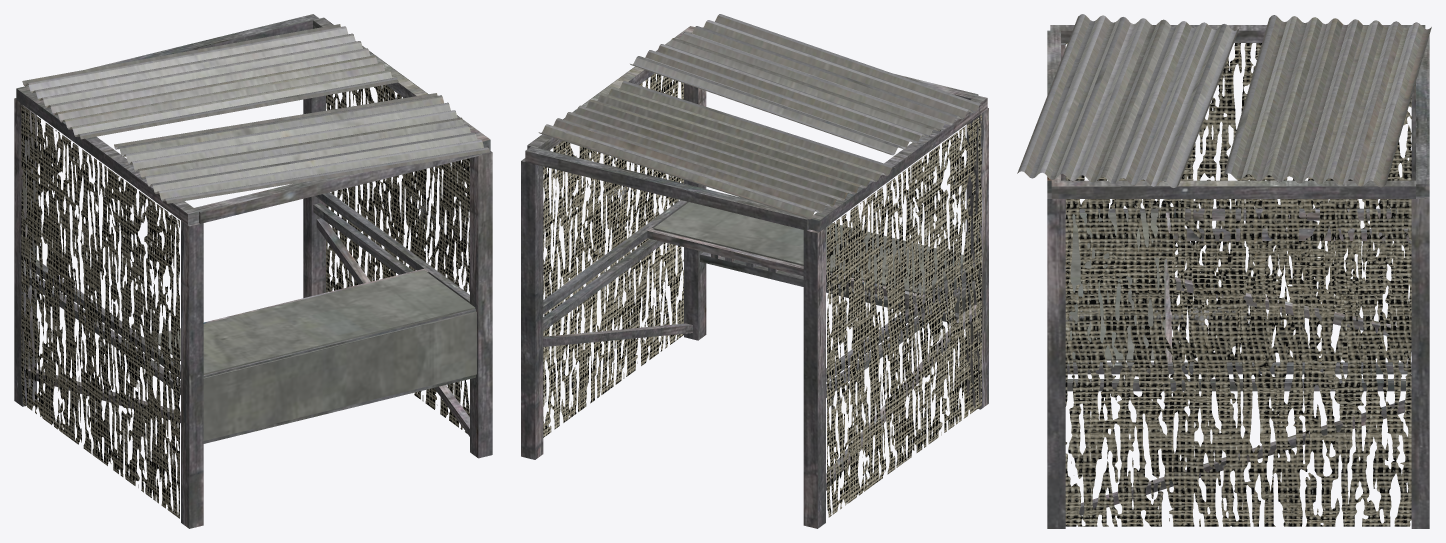
File: market-stand.obj
3 views of the same model, side by side, from view 1: azimuth 30°, elevation 25°; view 2: azimuth 150°, elevation 25°; view 3: azimuth 270°, elevation 25° (orthographic). The views are drawn at different scales.
Visible parts, largest first — view 1: Mesh20_Group14_Model; view 2: Mesh20_Group14_Model; view 3: Mesh20_Group14_Model.
Boxes of the visible parts, x1=… form: Mesh20_Group14_Model: x1=14, y1=14, x2=492, y2=528; Mesh20_Group14_Model: x1=521, y1=14, x2=988, y2=528; Mesh20_Group14_Model: x1=1017, y1=14, x2=1431, y2=528.
Bounding box in the file's own units: 2.19 × 2.12 × 2.28.
